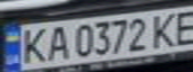0: (72, 20, 93, 58)
2: (127, 14, 154, 52)
3: (90, 19, 115, 56)
7: (109, 16, 133, 54)
A: (42, 24, 72, 61)
E: (169, 7, 193, 45)
K: (15, 25, 51, 65), (148, 10, 184, 48)
